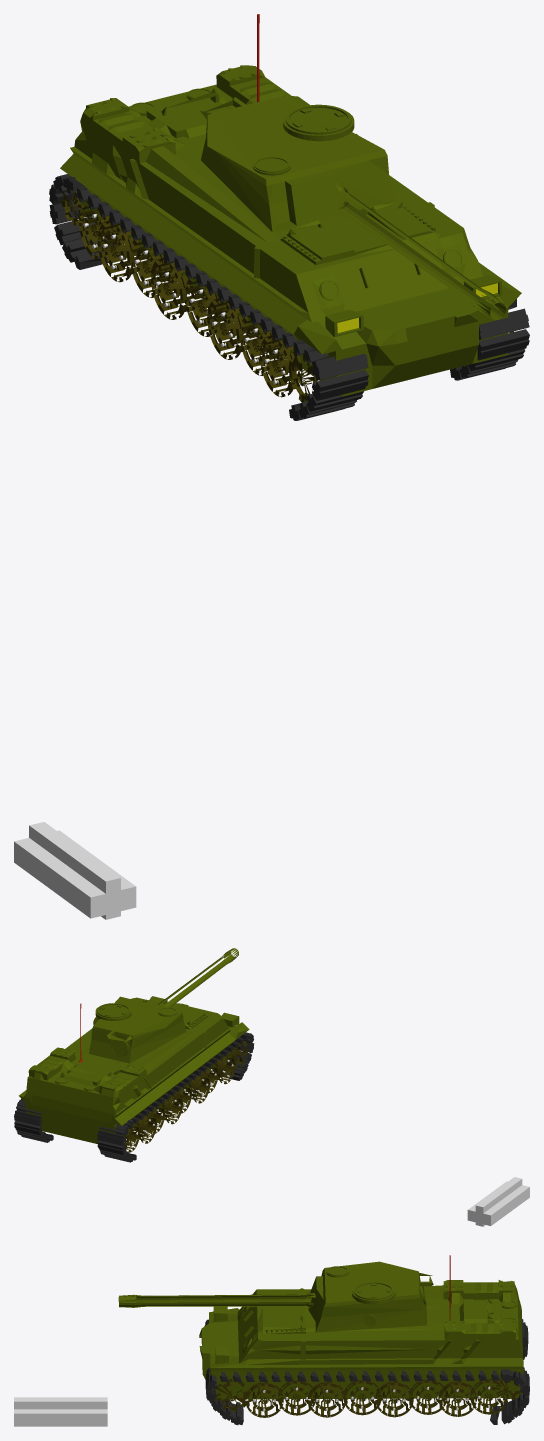
The model's file is Armor.glb.
3 views of the same model, one above another, from view 1: azimuth 30°, elevation 25°; view 2: azimuth 150°, elevation 25°; view 3: azimuth 270°, elevation 25° (orthographic). The views are drawn at different scales.
Visible parts, largest first — view 1: Cube, Cube.001, Cube.003, Cube.004, Circle.020, Cube.006, Cube.007, Cylinder, Cube.010, Circle.004, Circle.003, Circle (+2 smaller); view 2: Cube, Cube.001, Cube.003, Cube.010, Cube.004, Cube.005, Circle.020, Cylinder, Cube.006, Circle.004, Circle, Circle.003 (+1 smaller); view 3: Cube, Cube.001, Cube.003, Circle.020, Cube.008, Cube.005, Circle.019, Cylinder, Circle.014, Cube.007, Circle.015, Circle.016 (+9 smaller).
Boxes of the visible parts, <box> form: Cube: <box>60,65,521,396</box>; Cube.001: <box>200,96,395,232</box>; Cube.003: <box>14,822,136,919</box>; Cube.004: <box>77,186,328,363</box>; Circle.020: <box>333,182,506,319</box>; Cube.006: <box>289,353,368,420</box>; Cube.007: <box>450,308,529,380</box>; Cylinder: <box>283,104,354,141</box>; Cube.010: <box>49,174,115,262</box>; Circle.004: <box>207,298,250,359</box>; Circle.003: <box>151,258,193,319</box>; Circle: <box>97,220,140,282</box>; Cube: <box>19,997,249,1143</box>; Cube.001: <box>89,996,186,1063</box>; Cube.003: <box>467,1177,529,1226</box>; Cube.010: <box>97,1119,133,1162</box>; Cube.004: <box>131,1033,249,1123</box>; Cube.005: <box>14,1098,50,1142</box>; Circle.020: <box>158,948,238,1007</box>; Cylinder: <box>95,1003,131,1020</box>; Cube.006: <box>214,1032,254,1080</box>; Circle.004: <box>189,1072,210,1103</box>; Circle: <box>135,1112,156,1143</box>; Circle.003: <box>162,1092,182,1124</box>; Cube: <box>199,1280,523,1399</box>; Cube.001: <box>308,1261,433,1332</box>; Cube.003: <box>14,1397,107,1426</box>; Circle.020: <box>118,1292,315,1307</box>; Cube.008: <box>220,1370,500,1381</box>; Cube.005: <box>500,1367,529,1424</box>; Circle.019: <box>438,1381,476,1416</box>; Cylinder: <box>352,1282,395,1304</box>; Circle.014: <box>245,1382,283,1417</box>; Cube.007: <box>205,1368,243,1425</box>; Circle.015: <box>308,1381,346,1417</box>; Circle.016: <box>375,1381,413,1417</box>.
Bounding box in the file's own units: 3.41 × 2.84 × 4.19.
